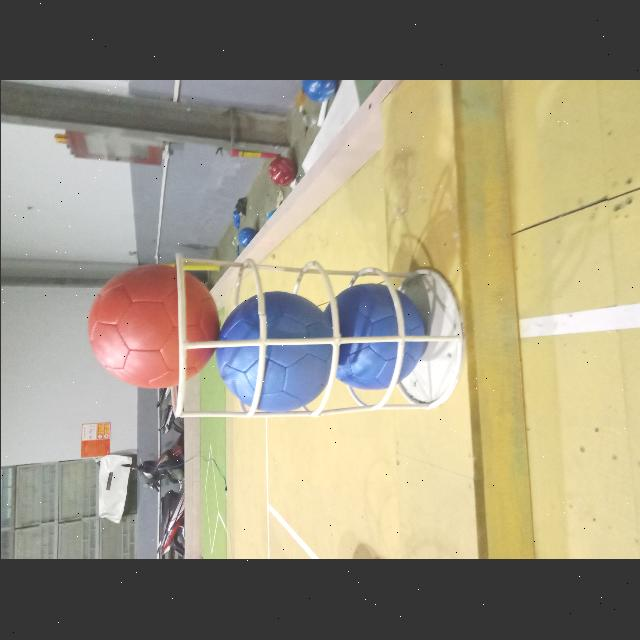B: (215, 292, 331, 414), (324, 283, 426, 391)
R: (86, 264, 218, 390)
S: (166, 252, 467, 423)
